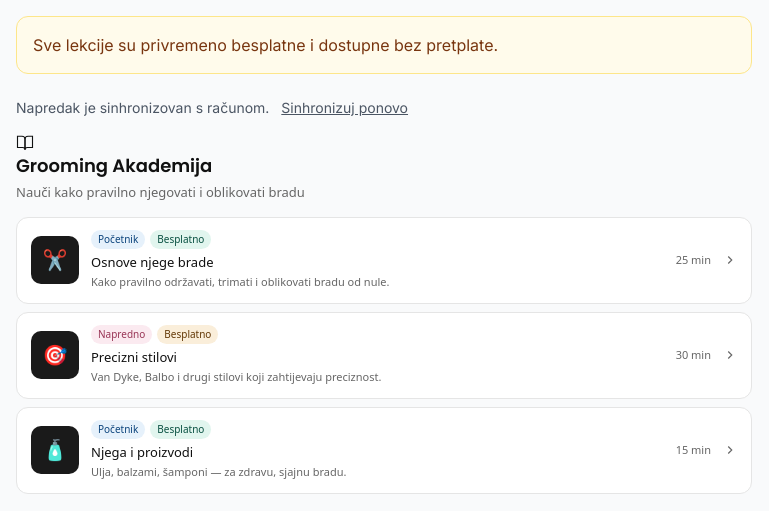
changing accounts cannot carry over another learner’s completions
Expected: the message "Napredak je sinhronizovan s računom. Sinhronizuj ponovo" is shown, [16,98,408,118]
Click the text "Precizni stilovi".
click(134, 356)  # box [91,348,177,366]
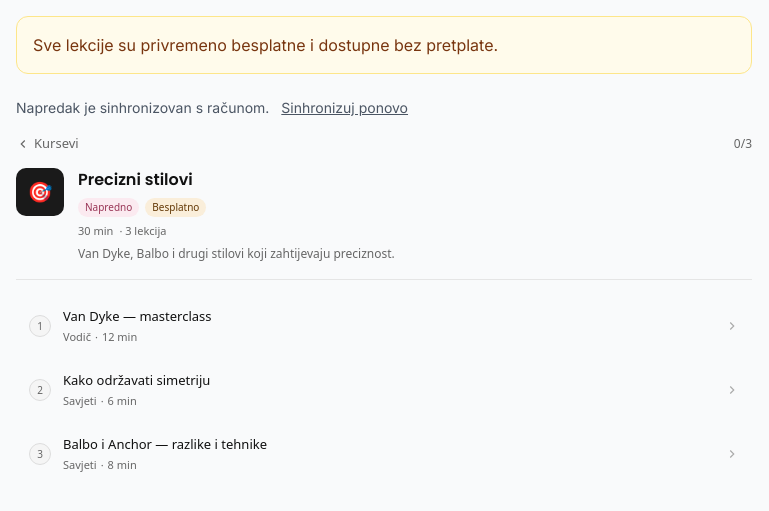
Click the text "Kako održavati simetriju".
click(137, 380)  # box [63,371,210,389]
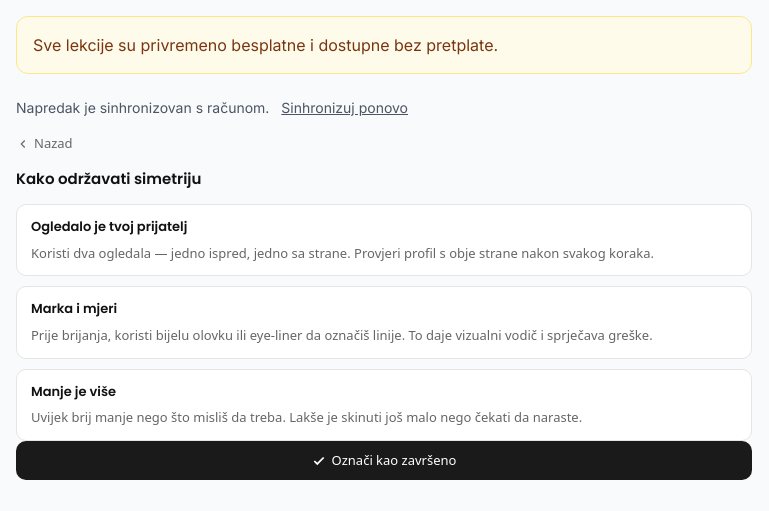
Expected: the button "Označi kao završeno" is shown, [16,441,752,480]
